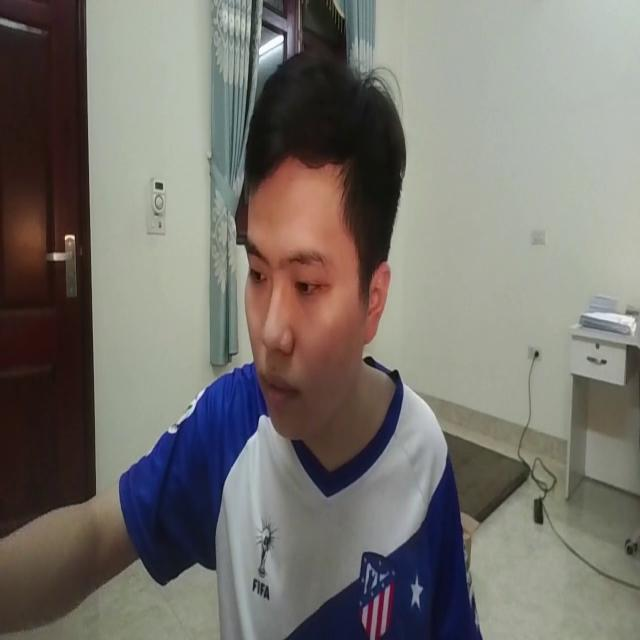student: (76, 13, 508, 640)
